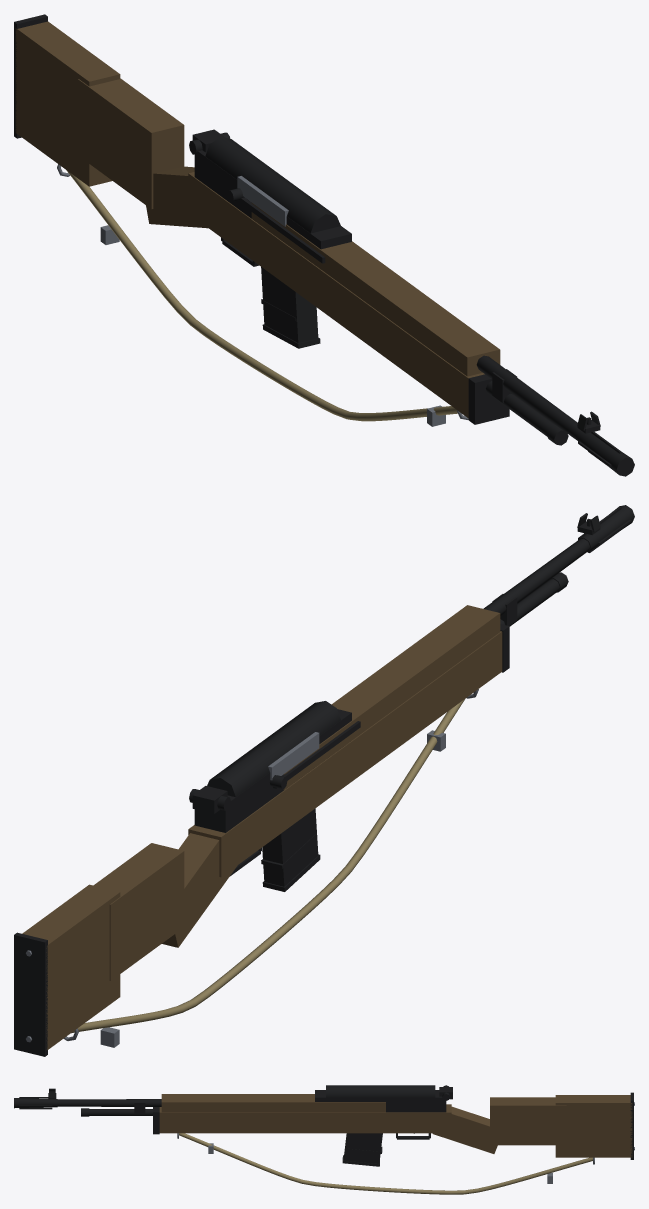
The model's file is m14-battle-rifle.glb.
The picture shows the model from 3 angles, top to bottom: view 1: azimuth 30°, elevation 25°; view 2: azimuth 150°, elevation 25°; view 3: azimuth 270°, elevation 25°; orthographic projection. The views are drawn at different scales.
Parts seen in each view (by area): view 1: Mesh_StockForend, Mesh_StockButtRear, Mesh_StockButtFore, Mesh_Handguard, Mesh_SlingStrap, Mesh_ReceiverTop, Mesh_MagazineBody, Mesh_StockGrip, Mesh_ReceiverCore, Mesh_Barrel, Mesh_ForendMetalTip, Mesh_FlashSuppressor (+3 smaller); view 2: Mesh_StockForend, Mesh_StockButtRear, Mesh_Handguard, Mesh_StockButtFore, Mesh_SlingStrap, Mesh_Buttplate, Mesh_ReceiverTop, Mesh_StockGrip, Mesh_MagazineBody, Mesh_ReceiverCore, Mesh_Barrel, Mesh_BoltFace (+2 smaller); view 3: Mesh_StockForend, Mesh_StockButtRear, Mesh_Handguard, Mesh_StockButtFore, Mesh_SlingStrap, Mesh_StockGrip, Mesh_ReceiverCore, Mesh_ReceiverTop, Mesh_MagazineBody, Mesh_Barrel, Mesh_FlashSuppressor, Mesh_GasCylinder (+2 smaller).
Boxes of the visible parts, x1,y1,x2,y2 form: Mesh_StockForend: (188,172,484,418); Mesh_StockButtRear: (15,21,120,186); Mesh_StockButtFore: (77,78,184,209); Mesh_Handguard: (251,203,500,376); Mesh_SlingStrap: (66,170,457,421); Mesh_ReceiverTop: (205,137,340,233); Mesh_MagazineBody: (261,267,318,342); Mesh_StockGrip: (146,166,208,228); Mesh_ReceiverCore: (194,150,351,249); Mesh_Barrel: (476,355,580,440); Mesh_ForendMetalTip: (468,374,509,424); Mesh_FlashSuppressor: (576,430,634,476); Mesh_StockForend: (188,631,502,877); Mesh_StockButtRear: (22,884,120,1049); Mesh_Handguard: (283,605,500,789); Mesh_StockButtFore: (93,843,184,980); Mesh_SlingStrap: (71,699,464,1033); Mesh_Buttplate: (14,932,47,1056); Mesh_ReceiverTop: (207,701,340,797); Mesh_StockGrip: (162,825,237,947); Mesh_MagazineBody: (262,808,318,886); Mesh_ReceiverCore: (194,709,351,832); Mesh_Barrel: (483,538,589,616); Mesh_BoltFace: (268,732,319,780); Mesh_StockForend: (159,1104,451,1133); Mesh_StockButtRear: (555,1095,632,1157); Mesh_Handguard: (161,1094,385,1112); Mesh_StockButtFore: (490,1097,566,1145); Mesh_SlingStrap: (179,1133,592,1194); Mesh_StockGrip: (432,1106,497,1153); Mesh_ReceiverCore: (315,1090,446,1112); Mesh_ReceiverTop: (326,1085,435,1097); Mesh_MagazineBody: (344,1133,382,1163); Mesh_Barrel: (57,1099,161,1106); Mesh_FlashSuppressor: (14,1098,57,1108); Mesh_GasCylinder: (89,1109,152,1115).
Size of the model in its own units: 0.0485 by 0.2197 by 1.13.
